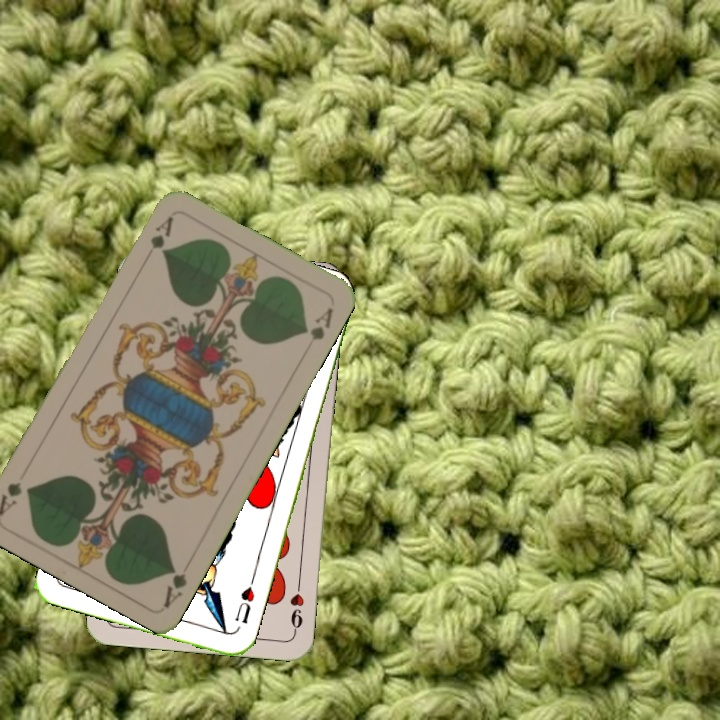GA: (139, 212, 176, 265), (159, 563, 190, 610)
H9: (286, 576, 307, 635)
HU: (231, 574, 257, 627)
